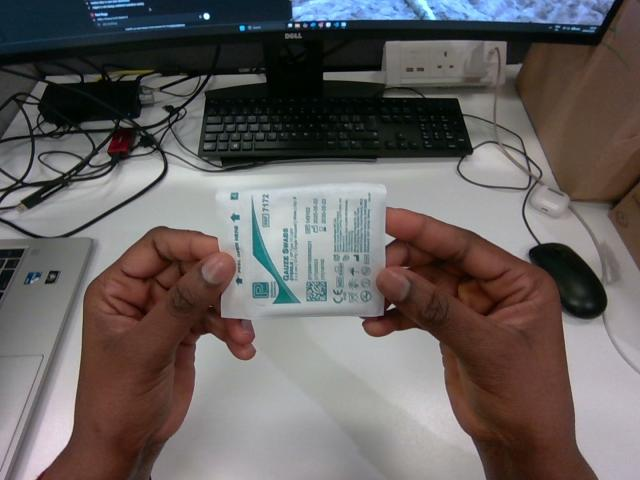gauze: (216, 183, 386, 320)
